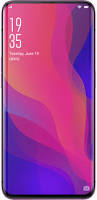oppo: (1, 1, 96, 200)
